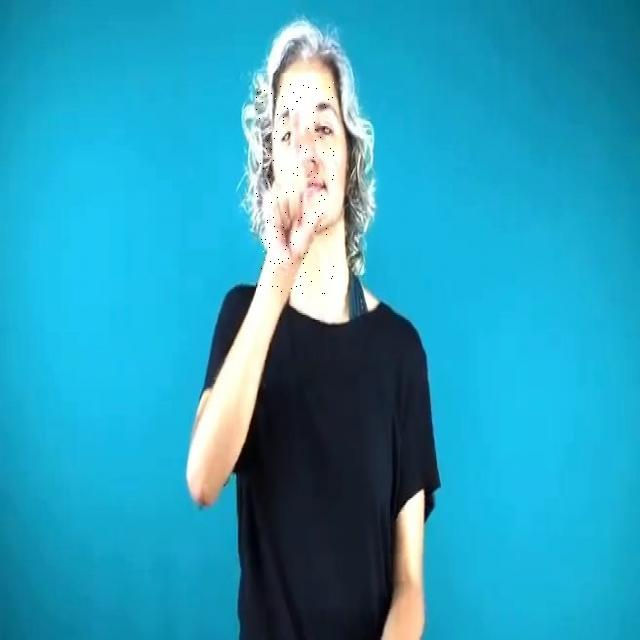chicken: (256, 74, 334, 296)
